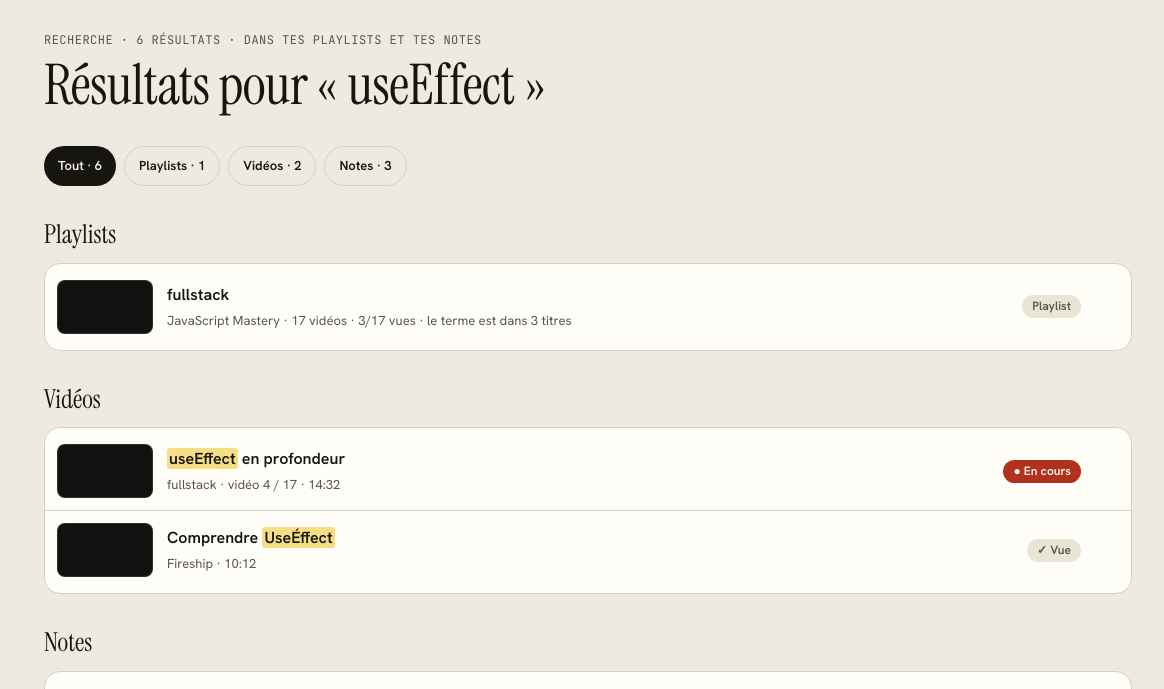
it: search page (YC-22) › the filters show their counts, keep only their group, and are in the address
The width and height of the screenshot is (1164, 689).
Click the button "Notes · 3". click: (365, 166)
box: top-left (324, 146), bottom-right (406, 186)
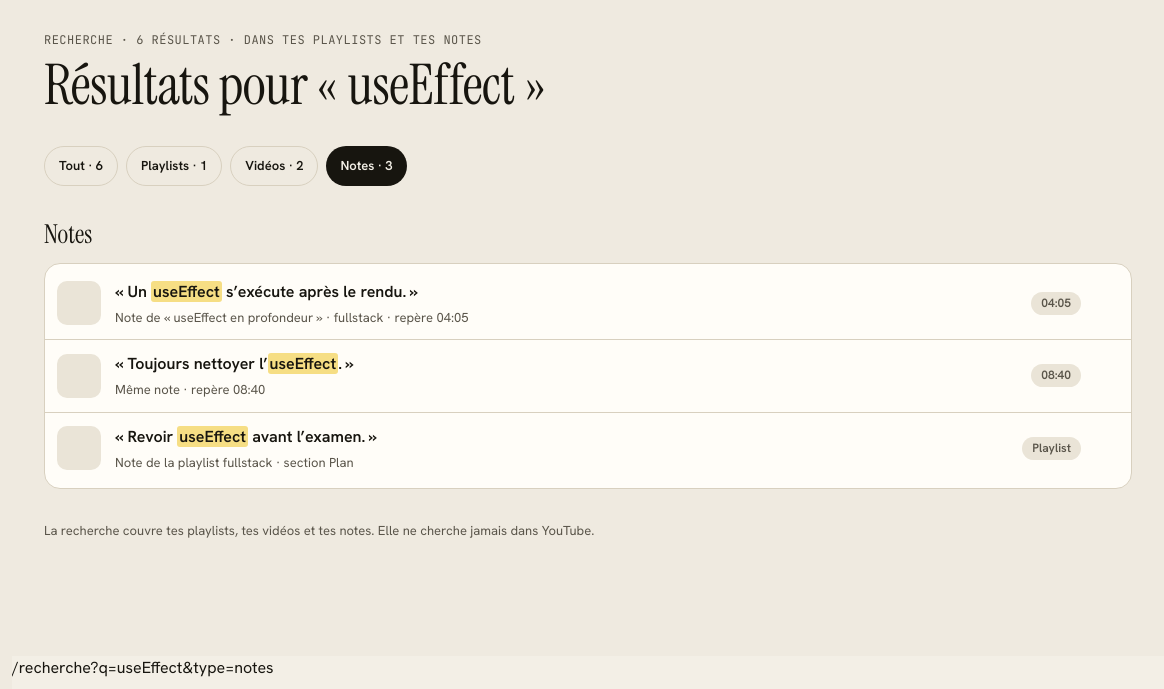
Now the text with test id "where" reads "/recherche?q=useEffect&type=notes", box top-left (12, 657), bottom-right (274, 678)
